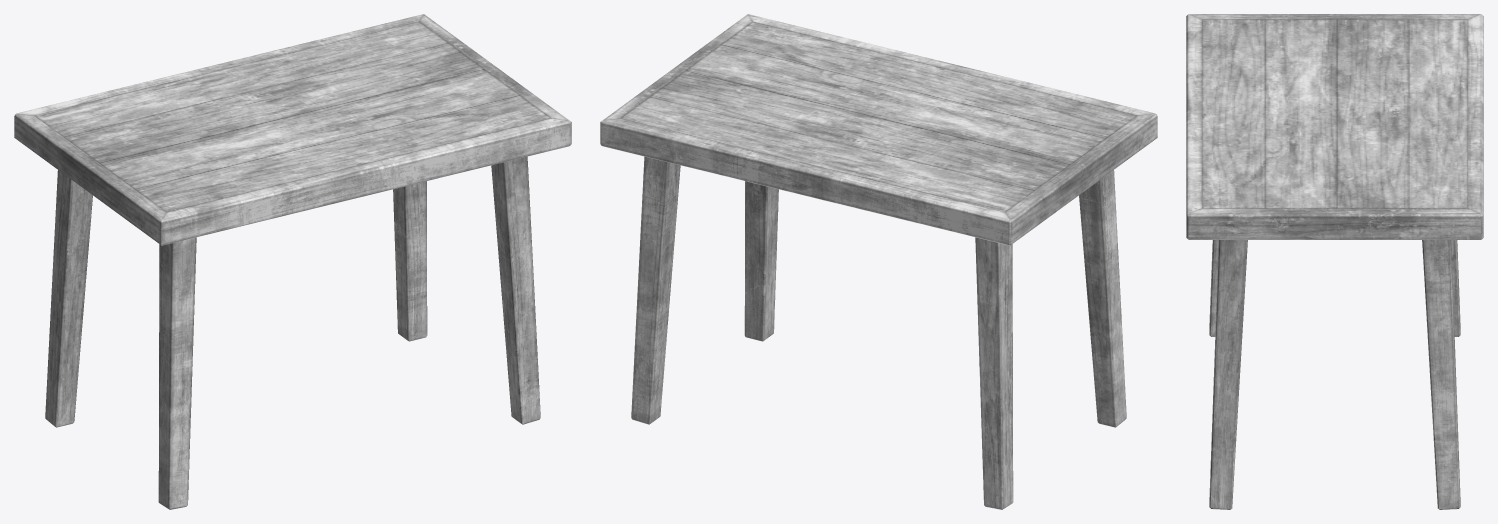
Rendered from dining-table.glb.
The picture shows the model from 3 angles, left to right: view 1: azimuth 30°, elevation 25°; view 2: azimuth 150°, elevation 25°; view 3: azimuth 270°, elevation 25°; orthographic projection.
Parts seen in each view (by area): view 1: wooden_table_02; view 2: wooden_table_02; view 3: wooden_table_02.
Part boxes in pixels (x1=…): wooden_table_02: x1=14, y1=14, x2=571, y2=509; wooden_table_02: x1=600, y1=14, x2=1157, y2=509; wooden_table_02: x1=1186, y1=14, x2=1483, y2=509.
Size of the model in its own units: 1.13 by 0.7995 by 0.7061.
1 material, 1 textured.
